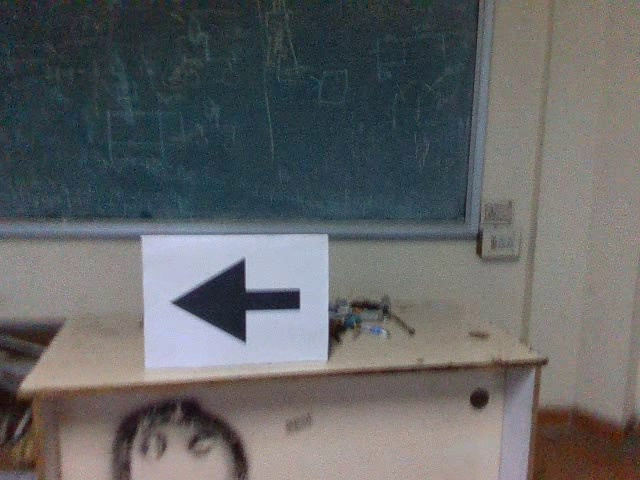Left: (167, 249, 305, 347)
